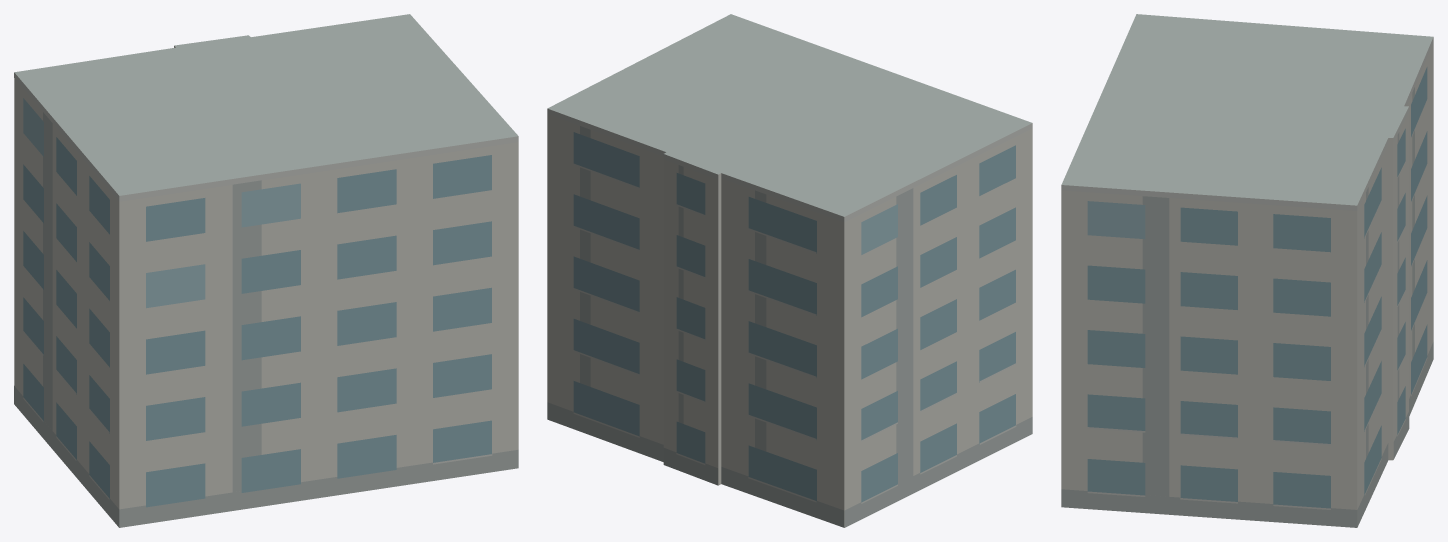
The model's file is survey-upis-32887511.glb.
3 views of the same model, side by side, from view 1: azimuth 30°, elevation 25°; view 2: azimuth 150°, elevation 25°; view 3: azimuth 270°, elevation 25° (orthographic). The views are drawn at different scales.
Visible parts, largest first — view 1: survey-upis-32887511.tmp; view 2: survey-upis-32887511.tmp; view 3: survey-upis-32887511.tmp.
Boxes of the visible parts, <box> form: survey-upis-32887511.tmp: <box>14,14,518,527</box>; survey-upis-32887511.tmp: <box>547,14,1032,527</box>; survey-upis-32887511.tmp: <box>1061,14,1433,527</box>.
Size of the model in its own units: 18.11 by 14.2 by 14.87.
